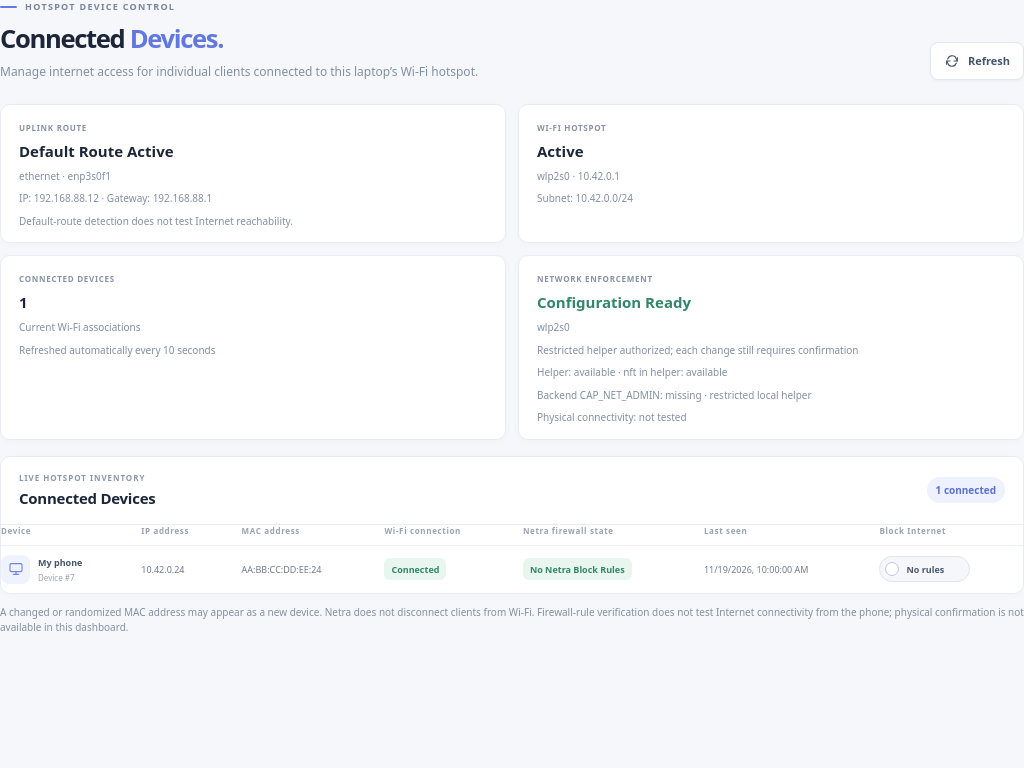
Test: ConnectedDevicesPage › shows a dry-run plan and updates only after apply and verification succeed
The width and height of the screenshot is (1024, 768).
Step 1. Click the switch named "Install firewall restrictions for My phone" → (925, 569), box x1=879 y1=556 x2=970 y2=582
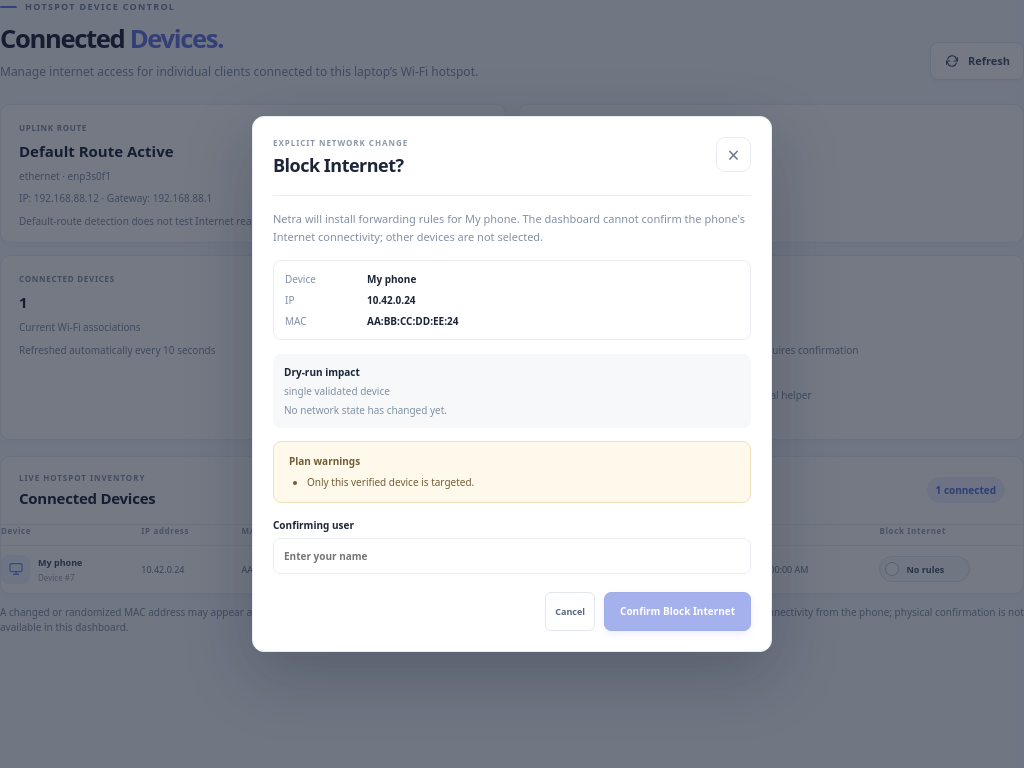
Result: the list item "Only this verified device is targeted." is shown at x1=307 y1=475 x2=474 y2=489
Step 2. Type "Meghana" into the field labelled "Confirming user" → (512, 556), box x1=273 y1=538 x2=751 y2=574
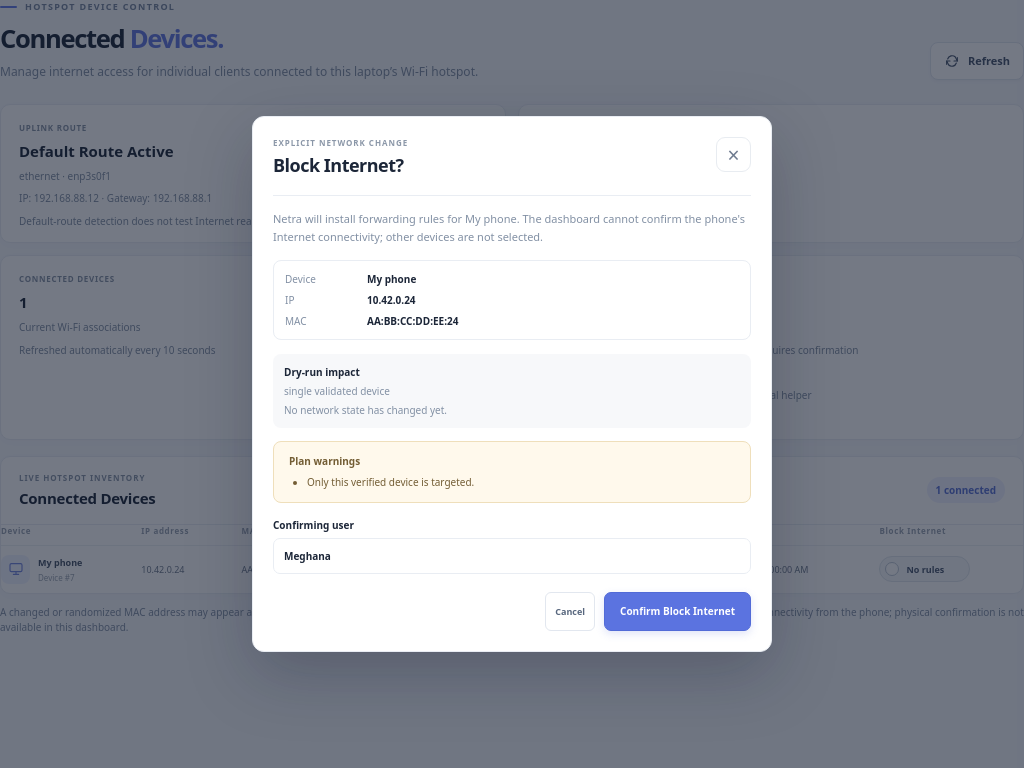
Step 3. Click the button "Confirm Block Internet" → (678, 611), box x1=604 y1=592 x2=751 y2=631
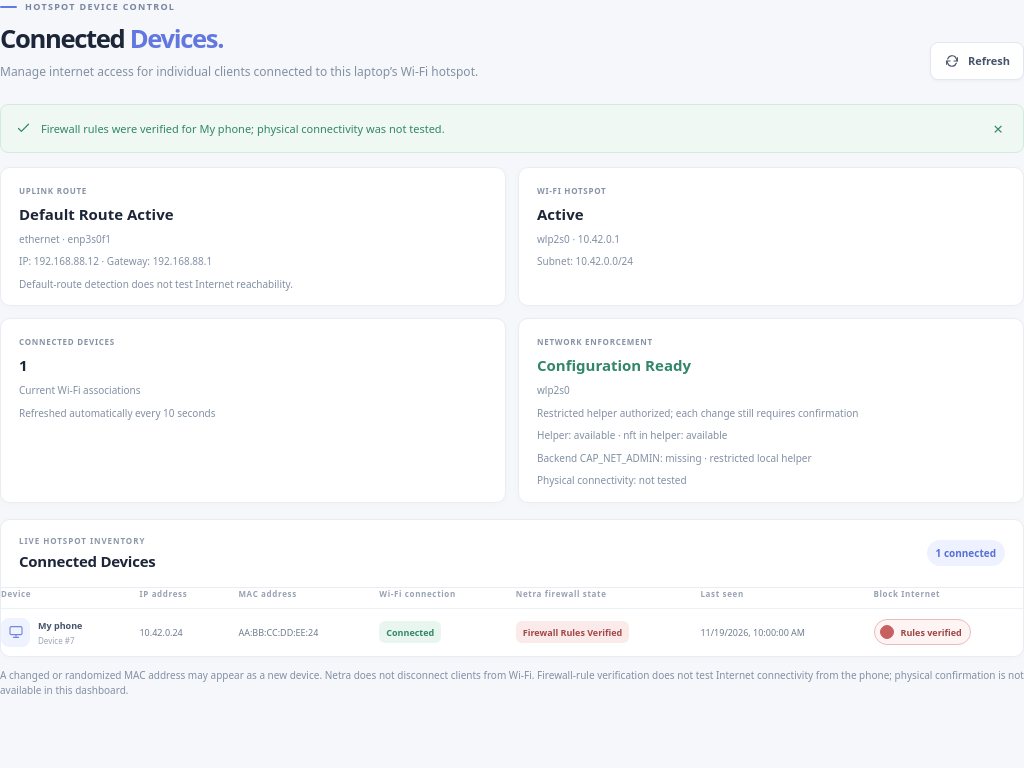
Result: the text "physical connectivity was not tested" is shown at x1=41 y1=121 x2=445 y2=136
